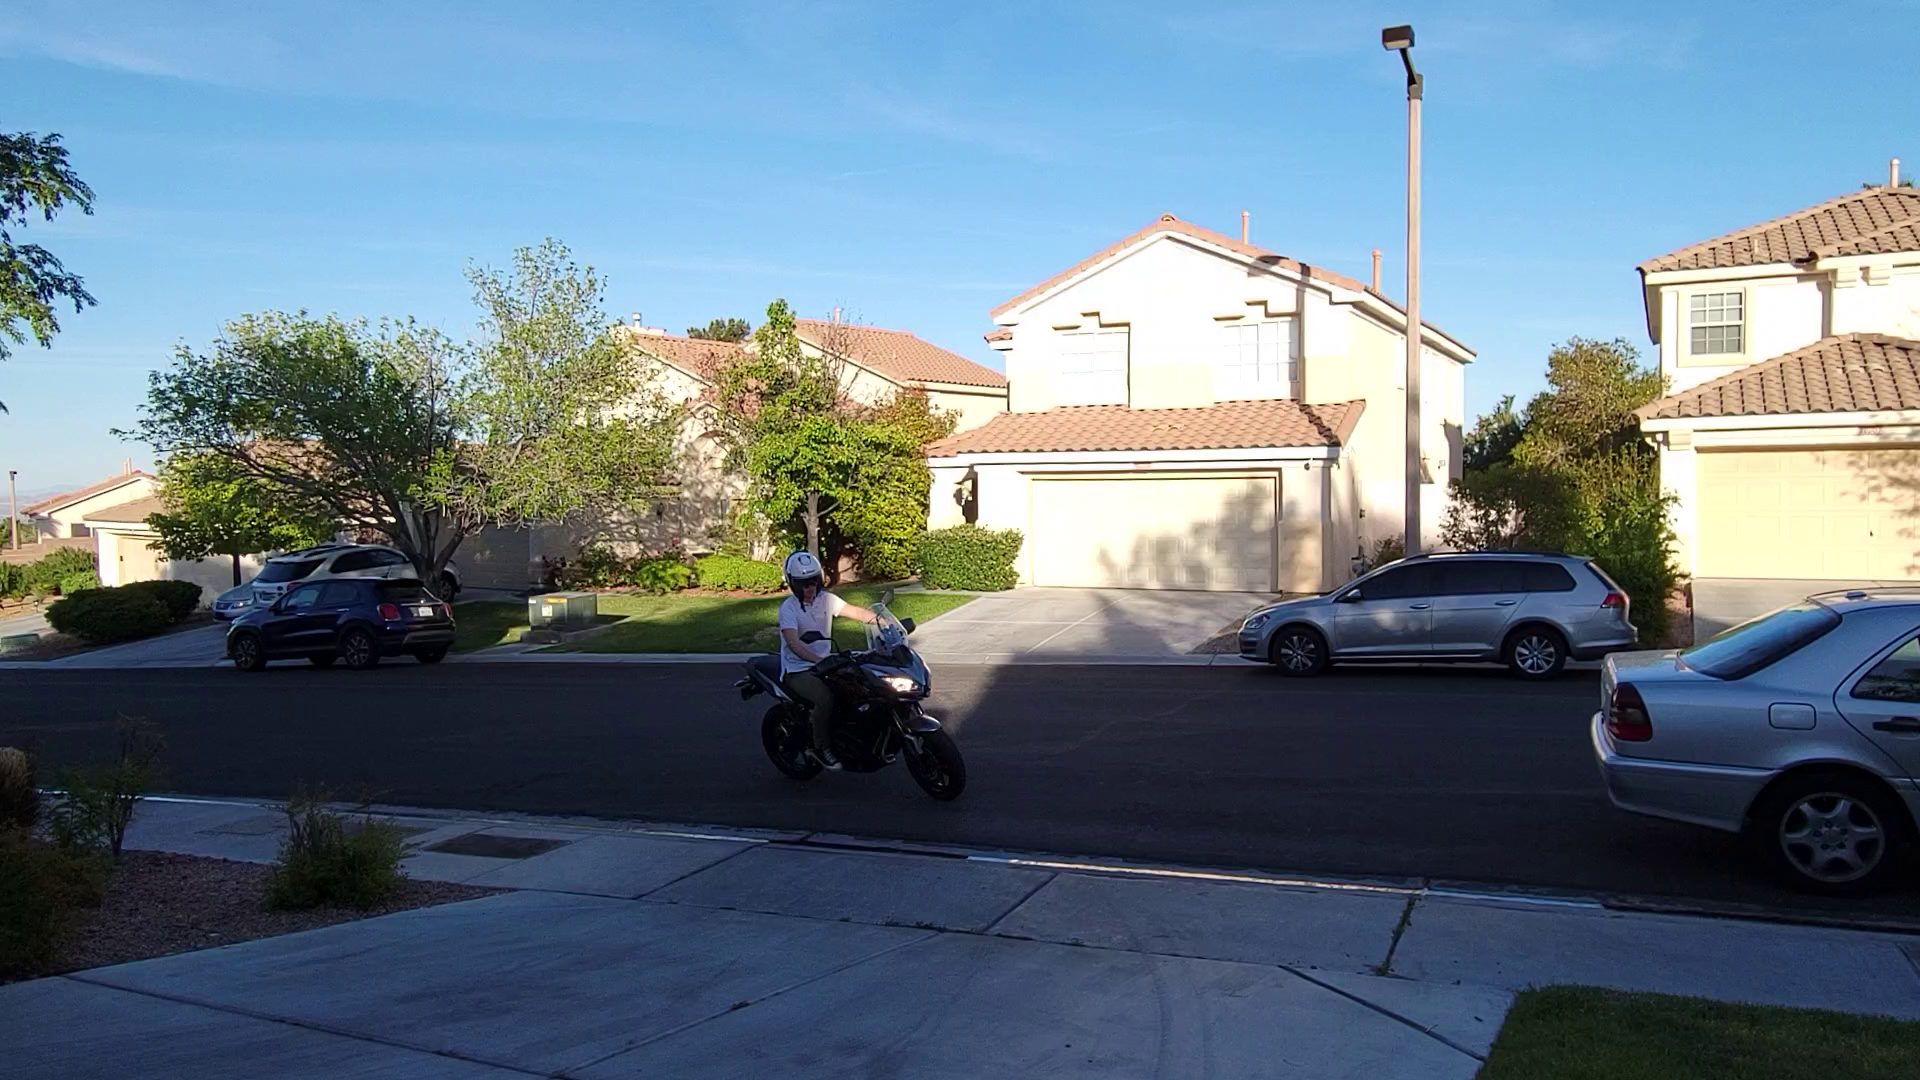my bike: (728, 545, 971, 799)
